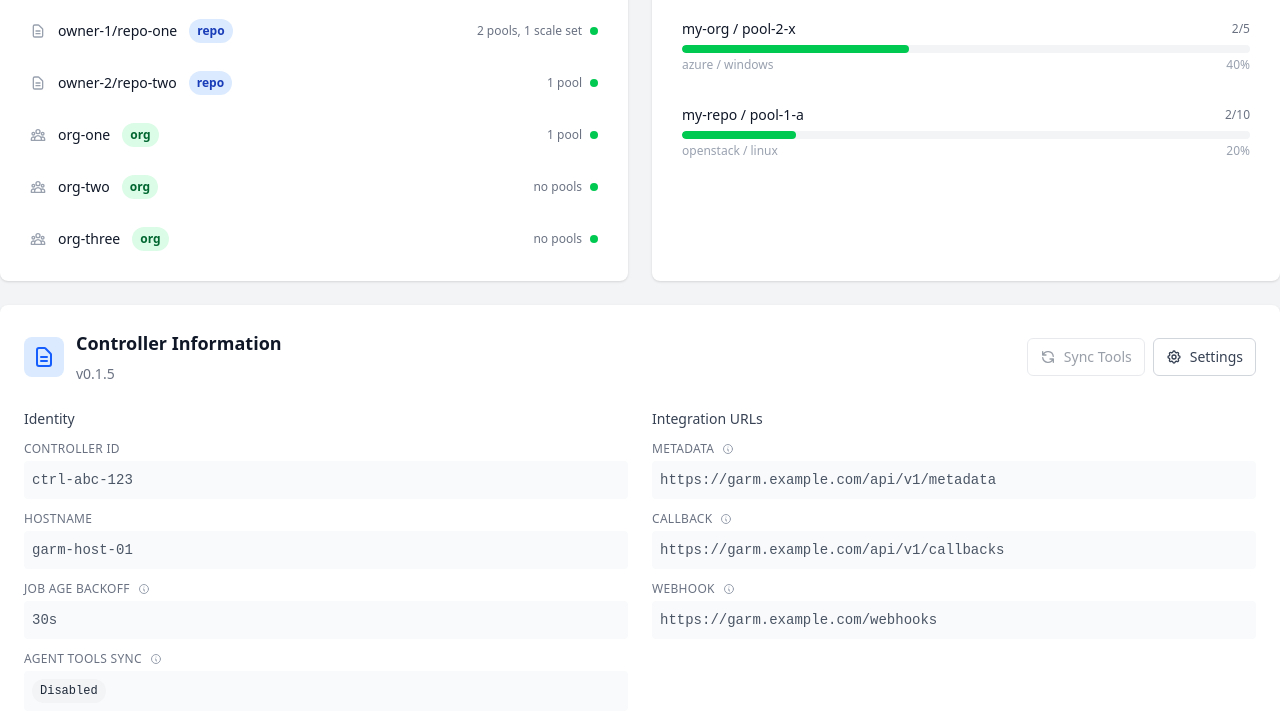
it: Dashboard Page Integration Tests › Controller Info Card › should snap a pin without the v prefix to its release entry
(page scrolled)
Click the button "Settings" at x=1204, y=357, box [1153,338,1256,376]
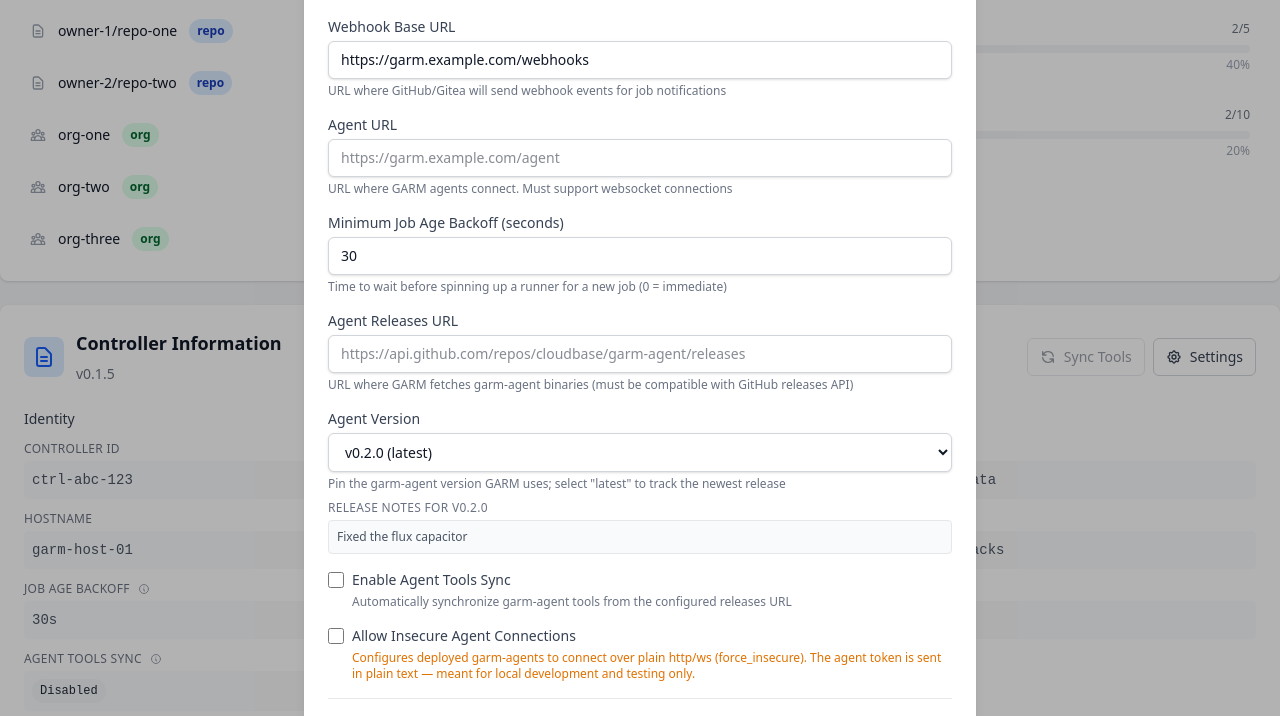
Expected: the dropdown with id "garmAgentVersion" shows "v0.2.0 (latest)", [328,433,952,472]
